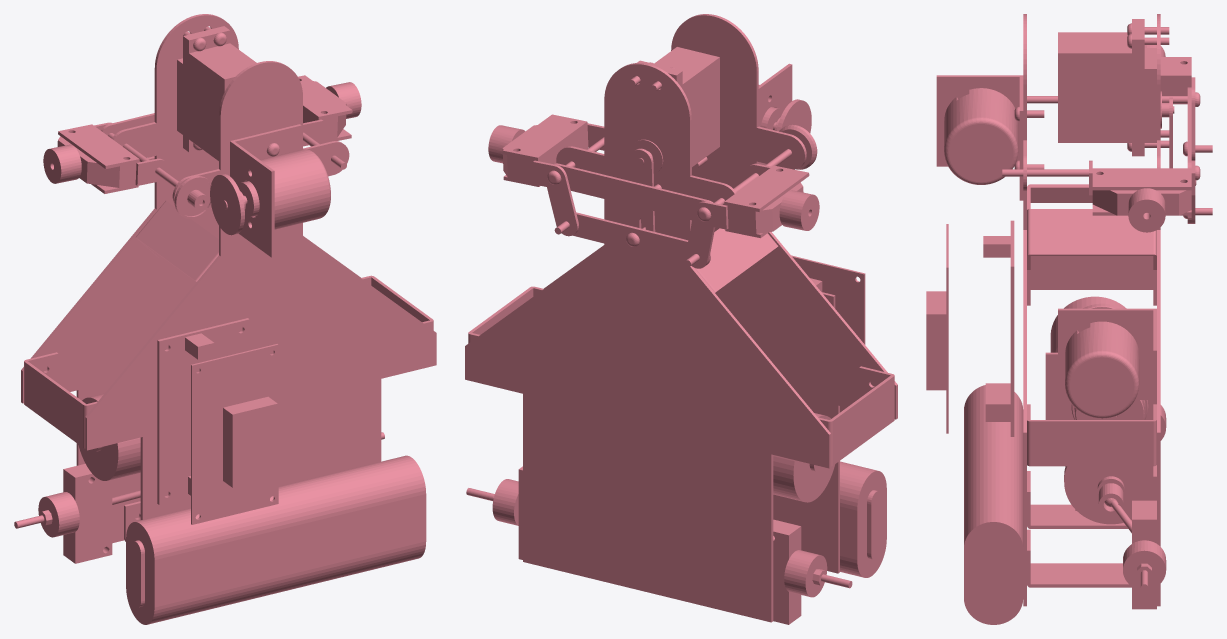
The model's file is body.dae.
3 views of the same model, side by side, from view 1: azimuth 30°, elevation 25°; view 2: azimuth 150°, elevation 25°; view 3: azimuth 270°, elevation 25° (orthographic). The views are drawn at different scales.
Parts seen in each view (by area): view 1: Michiyo; view 2: Michiyo; view 3: Michiyo.
Boxes of the visible parts, left/top/right/bottom form: Michiyo: left=14, top=14, right=436, bottom=624; Michiyo: left=465, top=14, right=897, bottom=624; Michiyo: left=926, top=14, right=1212, bottom=624.
Bounding box in the file's own units: 17.85 × 11.56 × 23.96.
